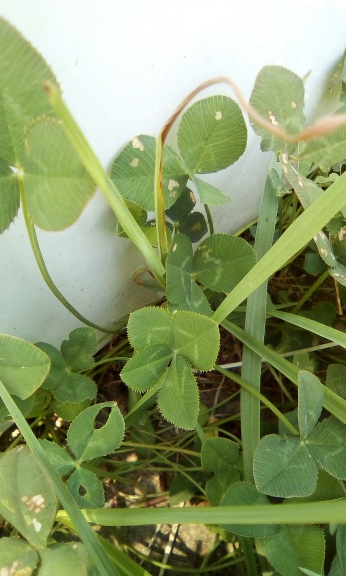4leaf: (118, 304, 222, 431)
